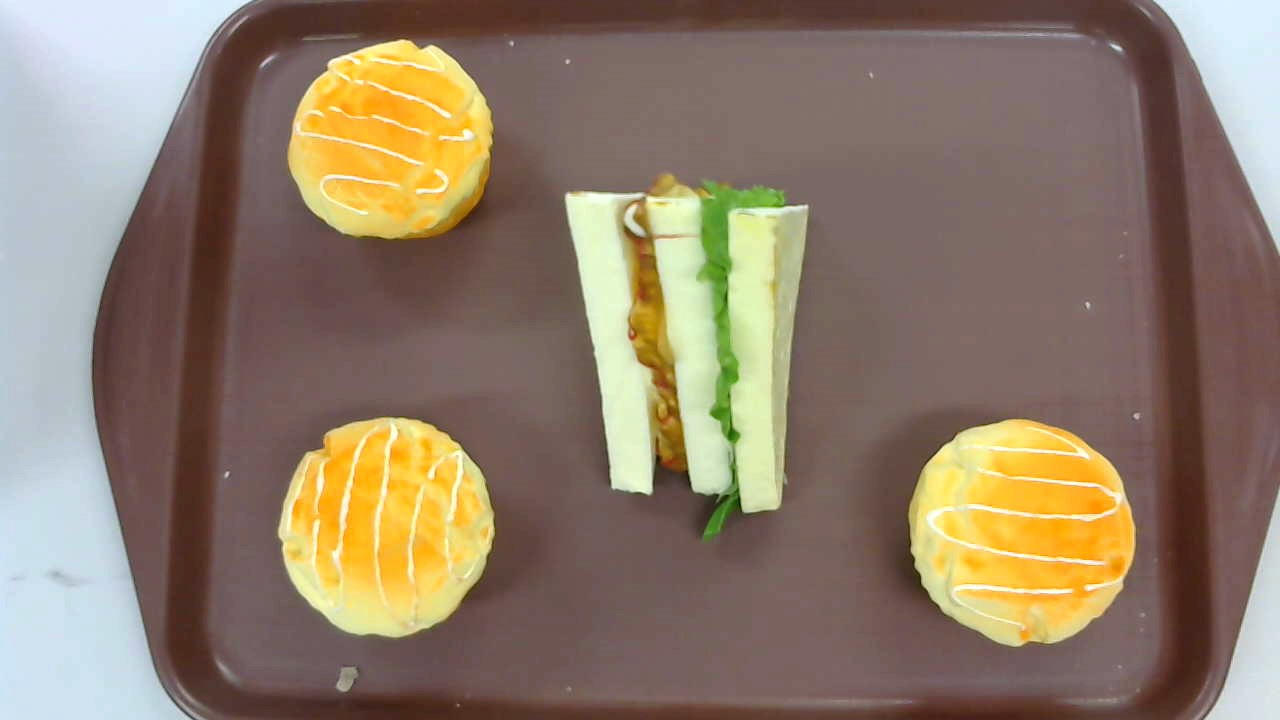cupcake: (907, 418, 1136, 649), (277, 418, 494, 639), (287, 40, 493, 243)
sandwich: (564, 170, 809, 546)
